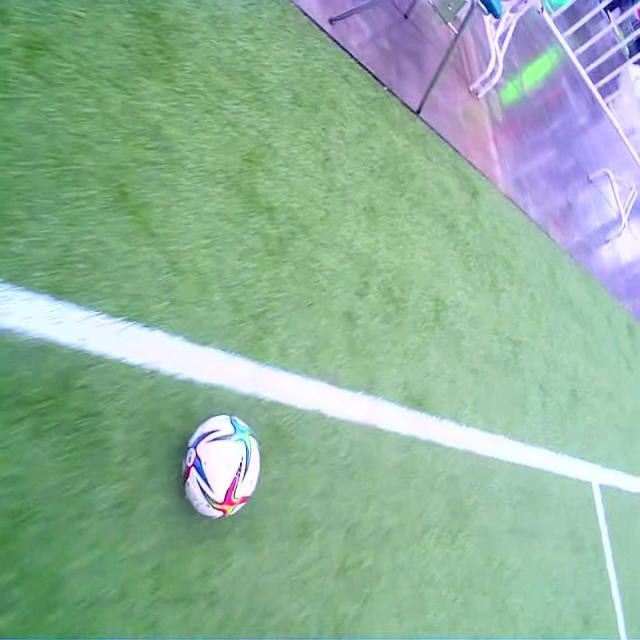ball: (183, 412, 260, 518)
